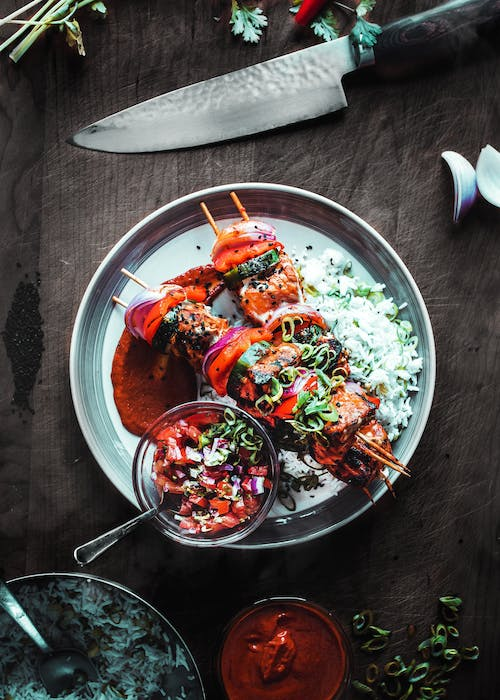knife: (61, 0, 500, 158)
